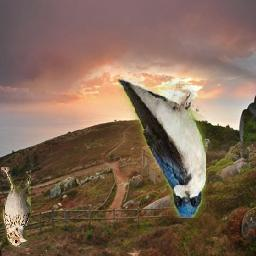Sparrow: (1, 168, 31, 249)
Swallow: (118, 80, 206, 219)
